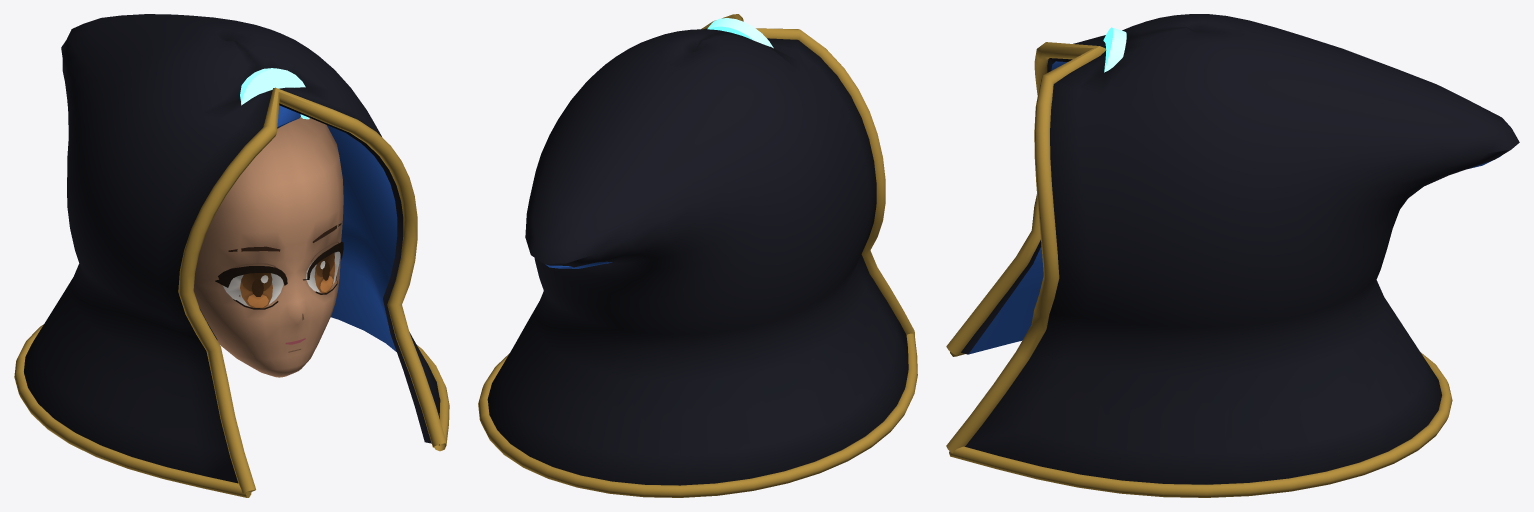
Rendered from h_void_f.glb.
The picture shows the model from 3 angles, left to right: view 1: azimuth 30°, elevation 25°; view 2: azimuth 150°, elevation 25°; view 3: azimuth 270°, elevation 25°; orthographic projection. The views are drawn at different scales.
Visible parts, largest first — view 1: Hood, HeadMesh, LashR, EyeWhiteR; view 2: Hood; view 3: Hood.
Boxes of the visible parts, x1,y1,x2,y2 form: Hood: (14,14,449,497); HeadMesh: (193,117,343,377); LashR: (215,266,287,309); EyeWhiteR: (222,273,283,306); Hood: (478,14,917,497); Hood: (946,14,1519,497).
Bounding box in the file's own units: 0.3768 × 0.3547 × 0.4861.
